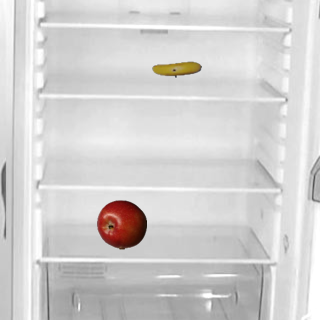Apple Braeburn: (96, 199, 146, 249)
Banana: (151, 44, 201, 94)
